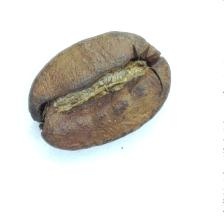NG: (32, 59, 153, 130)
